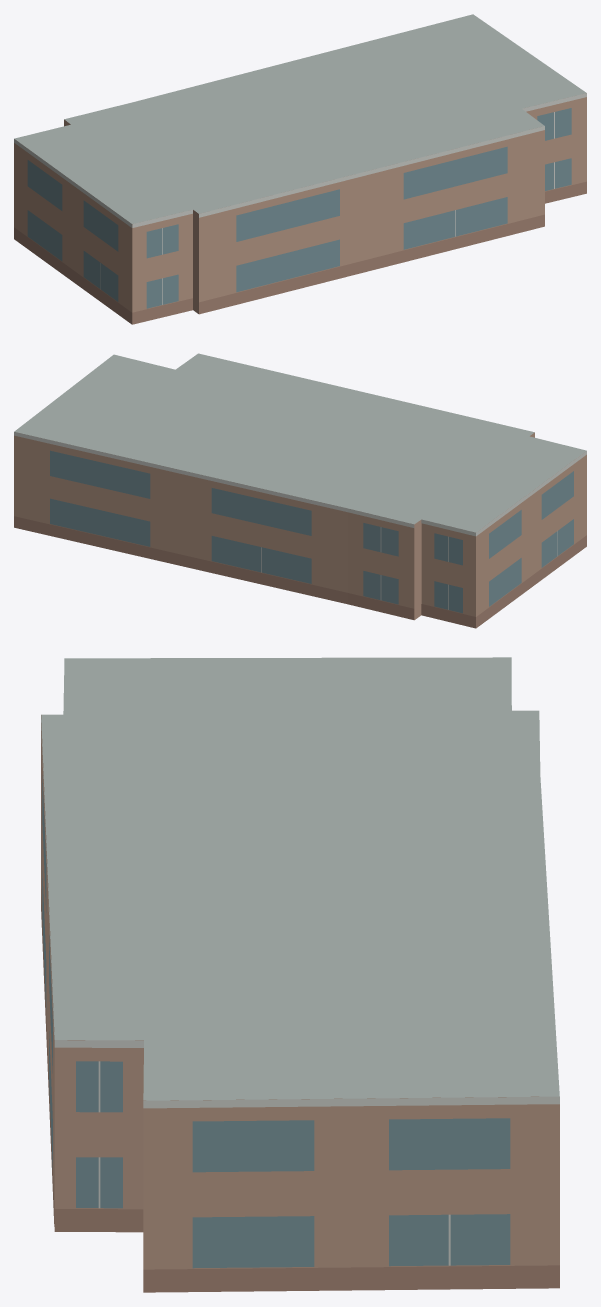
File: survey-upis-32461977.glb
3 renders of one model, top to bottom at view 1: azimuth 30°, elevation 25°; view 2: azimuth 150°, elevation 25°; view 3: azimuth 270°, elevation 25°, orthographic. The views are drawn at different scales.
Parts seen in each view (by area): view 1: survey-upis-32461977.tmp; view 2: survey-upis-32461977.tmp; view 3: survey-upis-32461977.tmp.
Boxes of the visible parts, x1=… form: survey-upis-32461977.tmp: x1=14, y1=14, x2=586, y2=324; survey-upis-32461977.tmp: x1=14, y1=353, x2=586, y2=628; survey-upis-32461977.tmp: x1=41, y1=657, x2=559, y2=1292.
Bounding box in the file's own units: 30.25 × 6.1 × 14.97.
